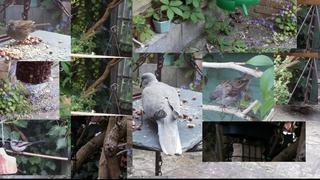collared dove: (140, 73, 182, 156)
dunnock: (208, 73, 254, 114), (6, 20, 51, 46)
long tailed tit: (9, 140, 48, 155)
